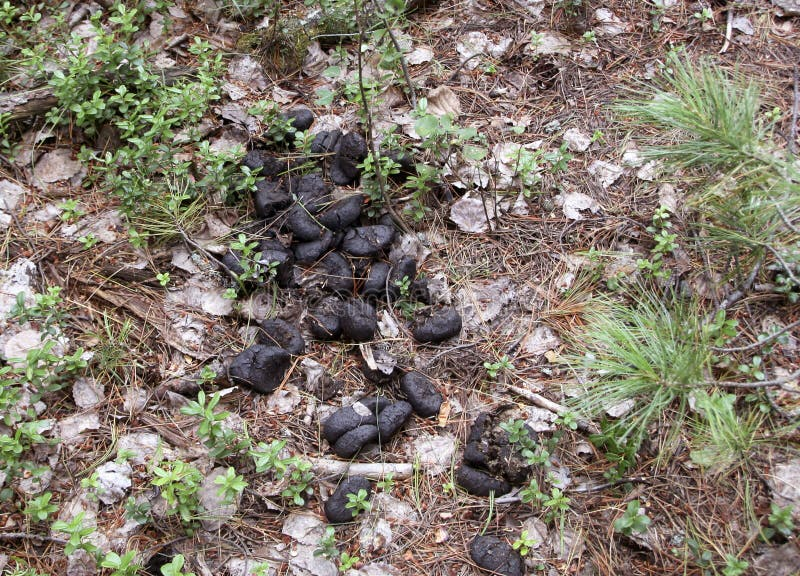Elk: (226, 116, 439, 410)
